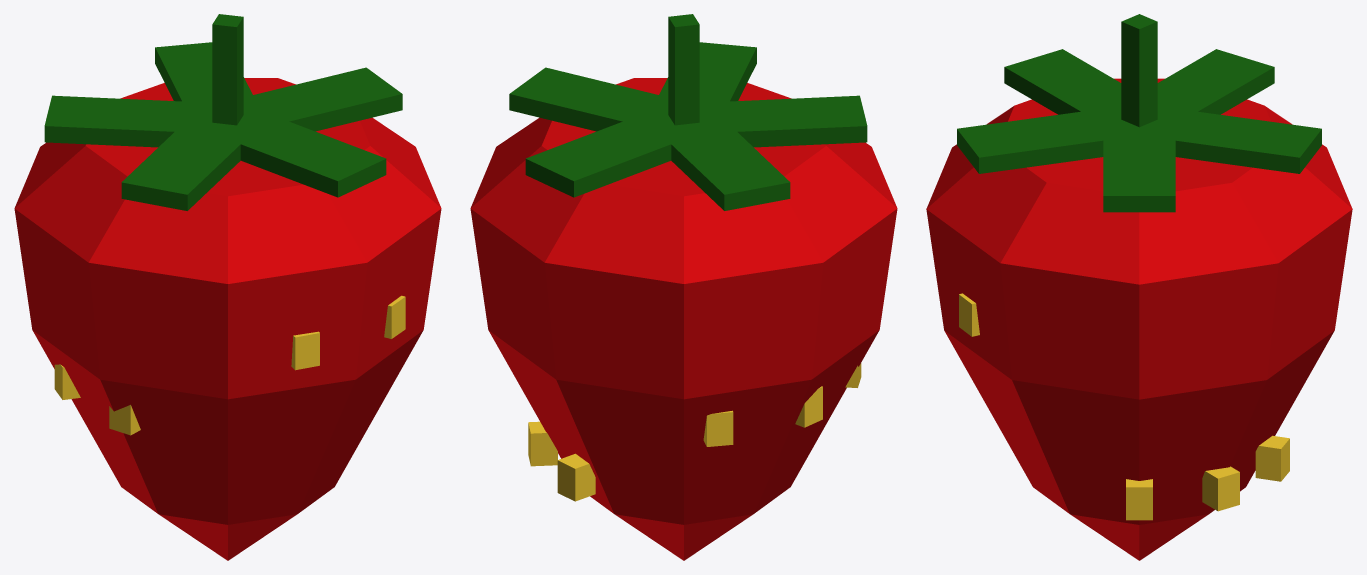
File: strawberry.obj
3 views of the same model, side by side, from view 1: azimuth 30°, elevation 25°; view 2: azimuth 150°, elevation 25°; view 3: azimuth 270°, elevation 25° (orthographic).
Parts seen in each view (by area): view 1: strawberry; view 2: strawberry; view 3: strawberry.
Part boxes in pixels (x1=…): strawberry: x1=14, y1=14, x2=441, y2=560; strawberry: x1=470, y1=14, x2=897, y2=560; strawberry: x1=926, y1=14, x2=1352, y2=560.
Bounding box in the file's own units: 0.0466 × 0.066 × 0.0473.
